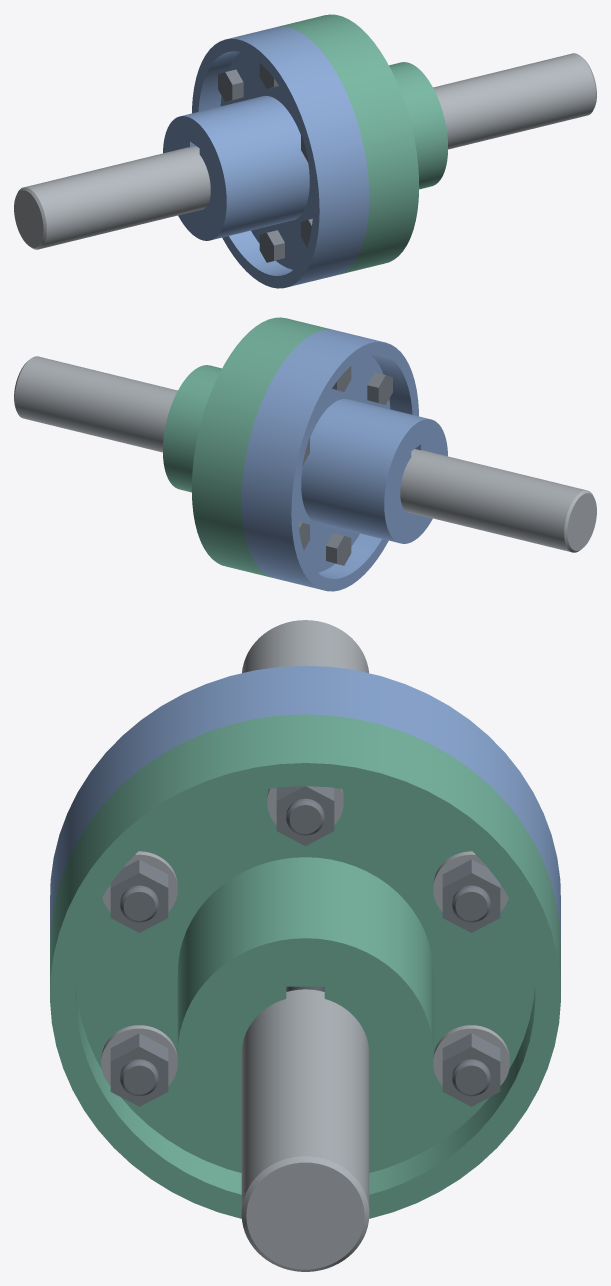
The model's file is step_17.glb.
3 renders of one model, top to bottom at view 1: azimuth 30°, elevation 25°; view 2: azimuth 150°, elevation 25°; view 3: azimuth 270°, elevation 25°, orthographic. The views are drawn at different scales.
Visible parts, largest first — view 1: part__flange A (spigot), part__flange B (recess), part__shaft A, part__shaft B, part__bolt 1, part__bolt 5; view 2: part__flange A (spigot), part__flange B (recess), part__shaft A, part__shaft B, part__bolt 3, part__bolt 5; view 3: part__flange B (recess), part__shaft B, part__flange A (spigot), part__shaft A, part__nut 4, part__nut 6, part__nut 1, part__nut 3, part__nut 2, part__washer 4, part__washer 6, part__bolt 1 (+6 smaller).
Part boxes in pixels (bbox=[...]): part__flange A (spigot): bbox=[163, 26, 369, 288]; part__flange B (recess): bbox=[276, 14, 447, 274]; part__shaft A: bbox=[14, 146, 210, 249]; part__shaft B: bbox=[433, 53, 596, 149]; part__bolt 1: bbox=[218, 69, 243, 101]; part__bolt 5: bbox=[259, 230, 284, 262]; part__flange A (spigot): bbox=[241, 329, 447, 591]; part__flange B (recess): bbox=[163, 317, 334, 577]; part__shaft A: bbox=[400, 449, 596, 552]; part__shaft B: bbox=[14, 356, 177, 452]; part__bolt 3: bbox=[367, 372, 392, 404]; part__bolt 5: bbox=[326, 533, 351, 565]; part__flange B (recess): bbox=[50, 714, 560, 1218]; part__shaft B: bbox=[241, 989, 369, 1271]; part__flange A (spigot): bbox=[50, 665, 560, 943]; part__shaft A: bbox=[242, 620, 368, 673]; part__nut 4: bbox=[110, 1033, 168, 1106]; part__nut 6: bbox=[442, 1033, 500, 1106]; part__nut 1: bbox=[442, 859, 500, 932]; part__nut 3: bbox=[110, 859, 168, 932]; part__nut 2: bbox=[276, 786, 334, 845]; part__washer 4: bbox=[101, 1025, 177, 1085]; part__washer 6: bbox=[433, 1025, 509, 1085]; part__bolt 1: bbox=[452, 885, 490, 922].
Bounding box in the file's own units: 400 × 160 × 160.
